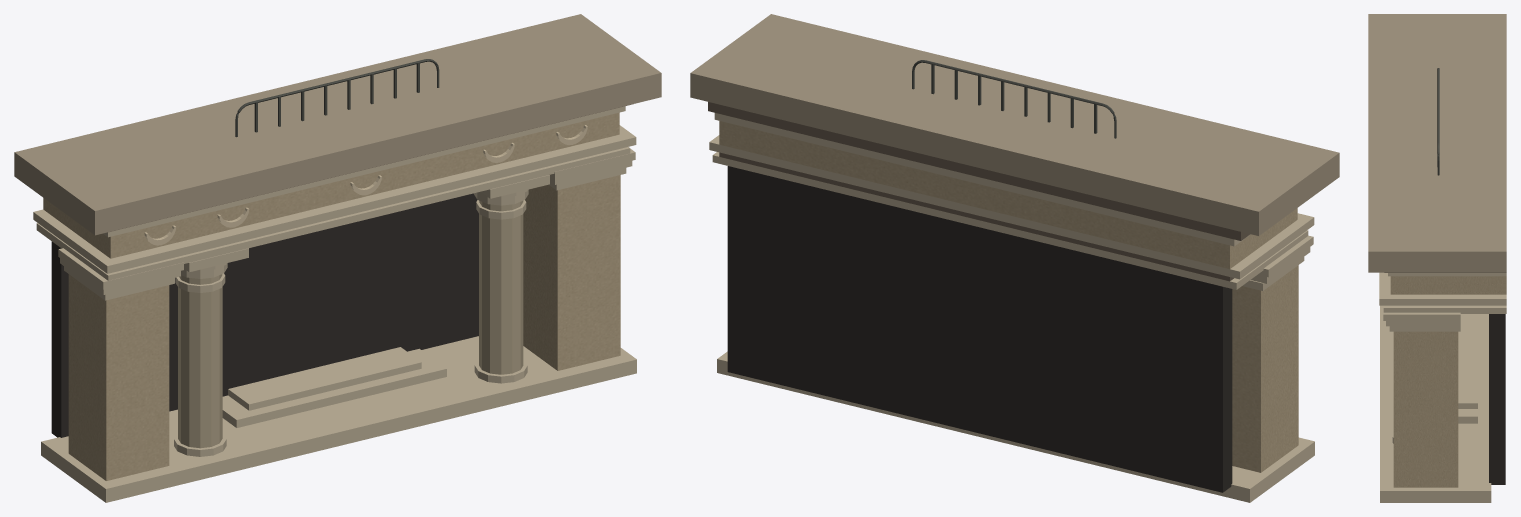
The model's file is huangpu-national-industrial-bank-rooftop-columned-pavilion-lod.glb.
3 views of the same model, side by side, from view 1: azimuth 30°, elevation 25°; view 2: azimuth 150°, elevation 25°; view 3: azimuth 270°, elevation 25° (orthographic). The views are drawn at different scales.
Parts seen in each view (by area): view 1: 中实大楼屋顶方亭双柱与弧饰额枋; view 2: 中实大楼屋顶方亭双柱与弧饰额枋; view 3: 中实大楼屋顶方亭双柱与弧饰额枋.
Part boxes in pixels (box(x1,y1,x2,y2)): 中实大楼屋顶方亭双柱与弧饰额枋: box(14, 14, 661, 502); 中实大楼屋顶方亭双柱与弧饰额枋: box(690, 14, 1339, 502); 中实大楼屋顶方亭双柱与弧饰额枋: box(1368, 14, 1506, 502).
Bounding box in the file's own units: 5.12 × 2.87 × 1.26.
8 materials, 1 textured.
